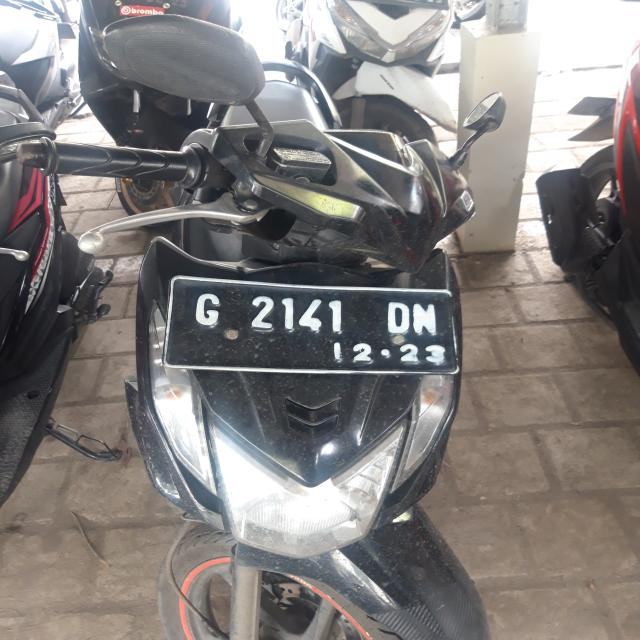plate: (166, 276, 462, 376)
